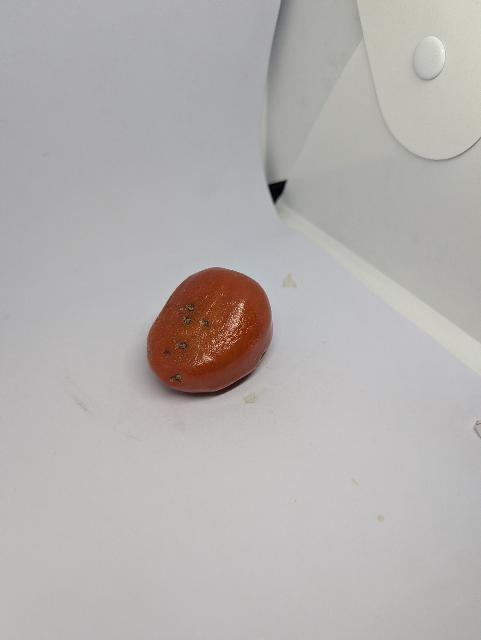defect: (142, 264, 287, 400)
